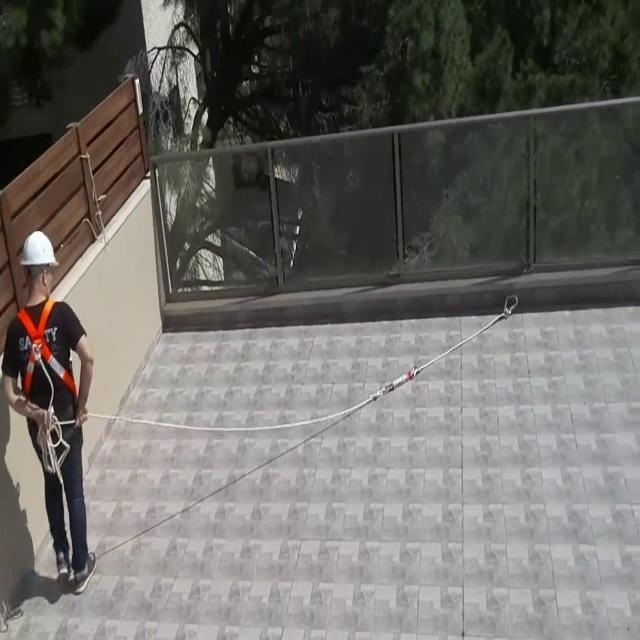Arnes_seguridad: (10, 299, 85, 410)
